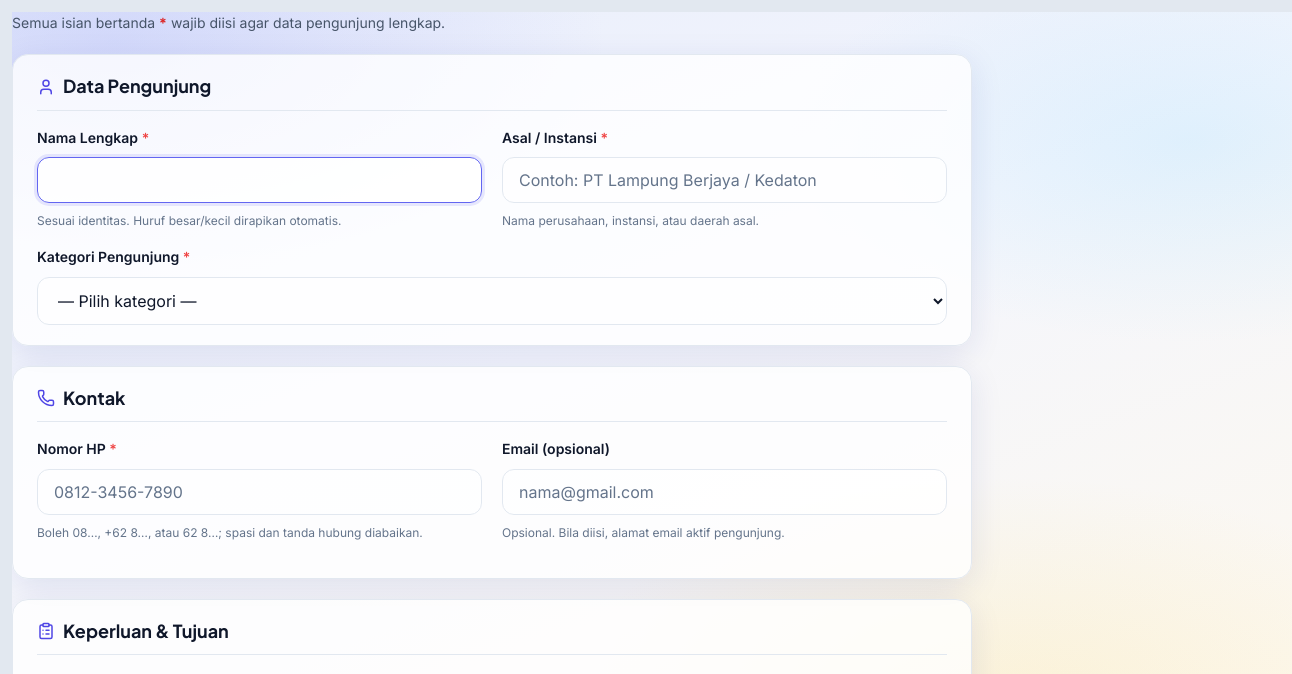
Test: Panel Walk-in (/admin/fo/registrasi?tab=walkin, pendaftaran walk-in oleh FO) › validasi per isian (saat blur, bukan sebelum disentuh) › email: saran koreksi salah ketik domain ("Maksud Anda ...?") dengan tombol terima, tanpa memblokir
Expected: the field labelled "Nama Lengkap" is shown, [37,157,482,203]
Type "Budi@Gmial.com" into the field labelled "Email (opsional)" at [724, 492], box [502,469,947,515]
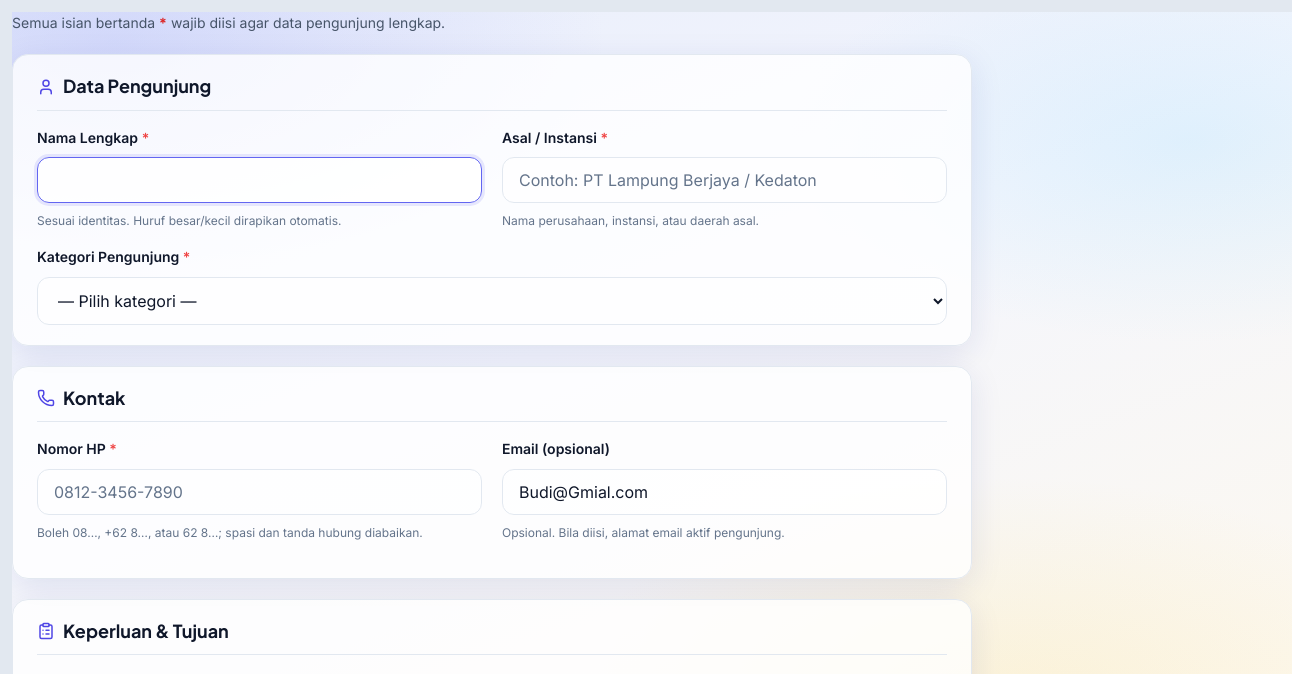
Leave the field labelled "Email (opsional)", box [502,469,947,515]
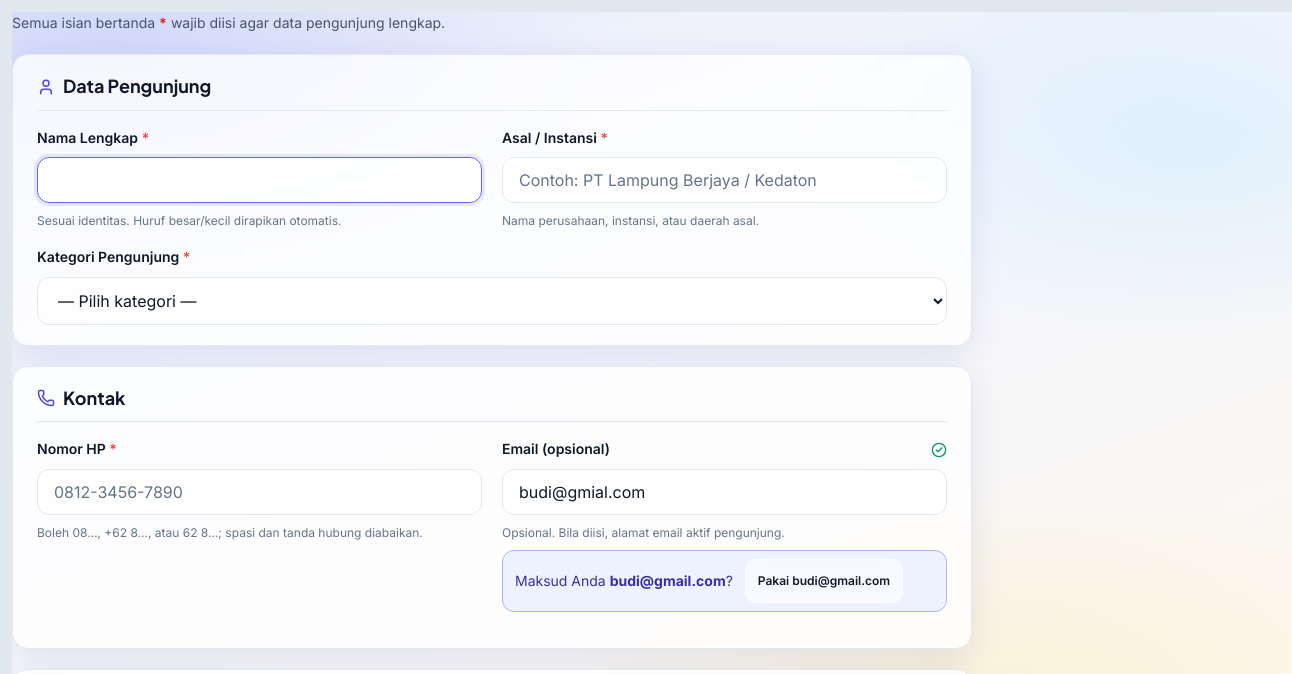
Expected: the text "Maksud Anda budi@gmail.com?" is shown, [515,570,733,592]
Click the button "Pakai budi@gmail.com" at [824, 581], box [745,559,903,603]
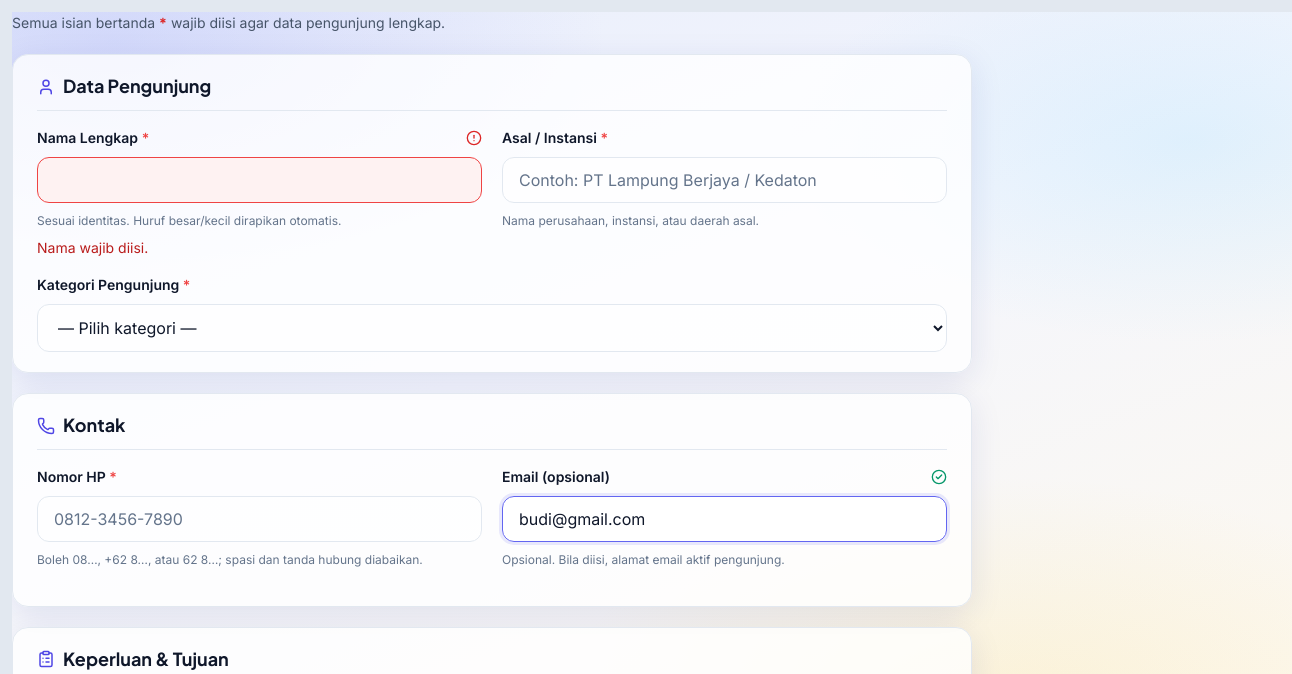
Expected: the field labelled "Email (opsional)" holds "budi@gmail.com", [502,496,947,542]
Expected: the text "Maksud Anda" is gone
